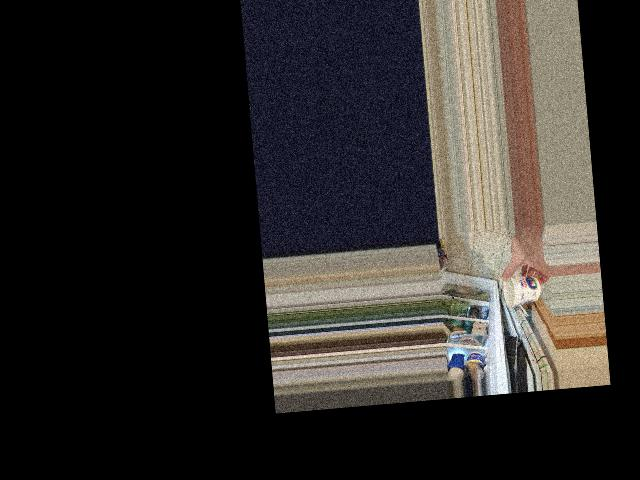cotage: (498, 273, 541, 306)
